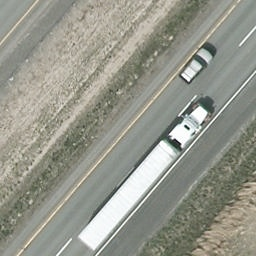car: (177, 47, 216, 86)
truck: (78, 102, 214, 251)
